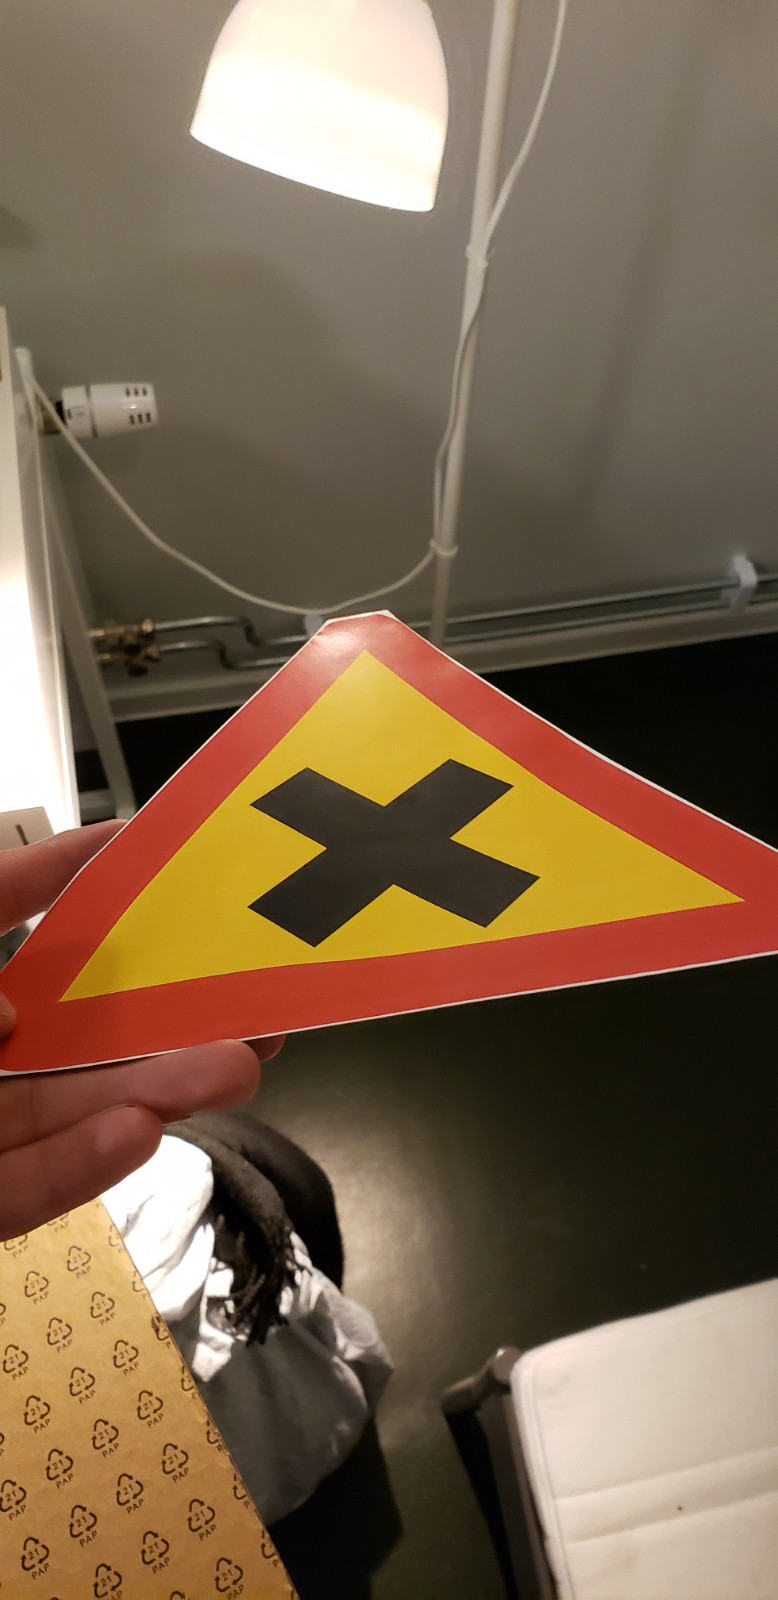junction: (17, 593, 778, 1107)
